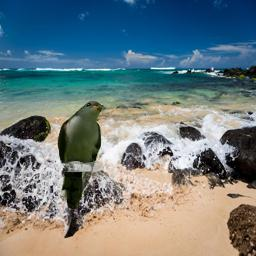Cuckoo: (57, 100, 104, 209)
